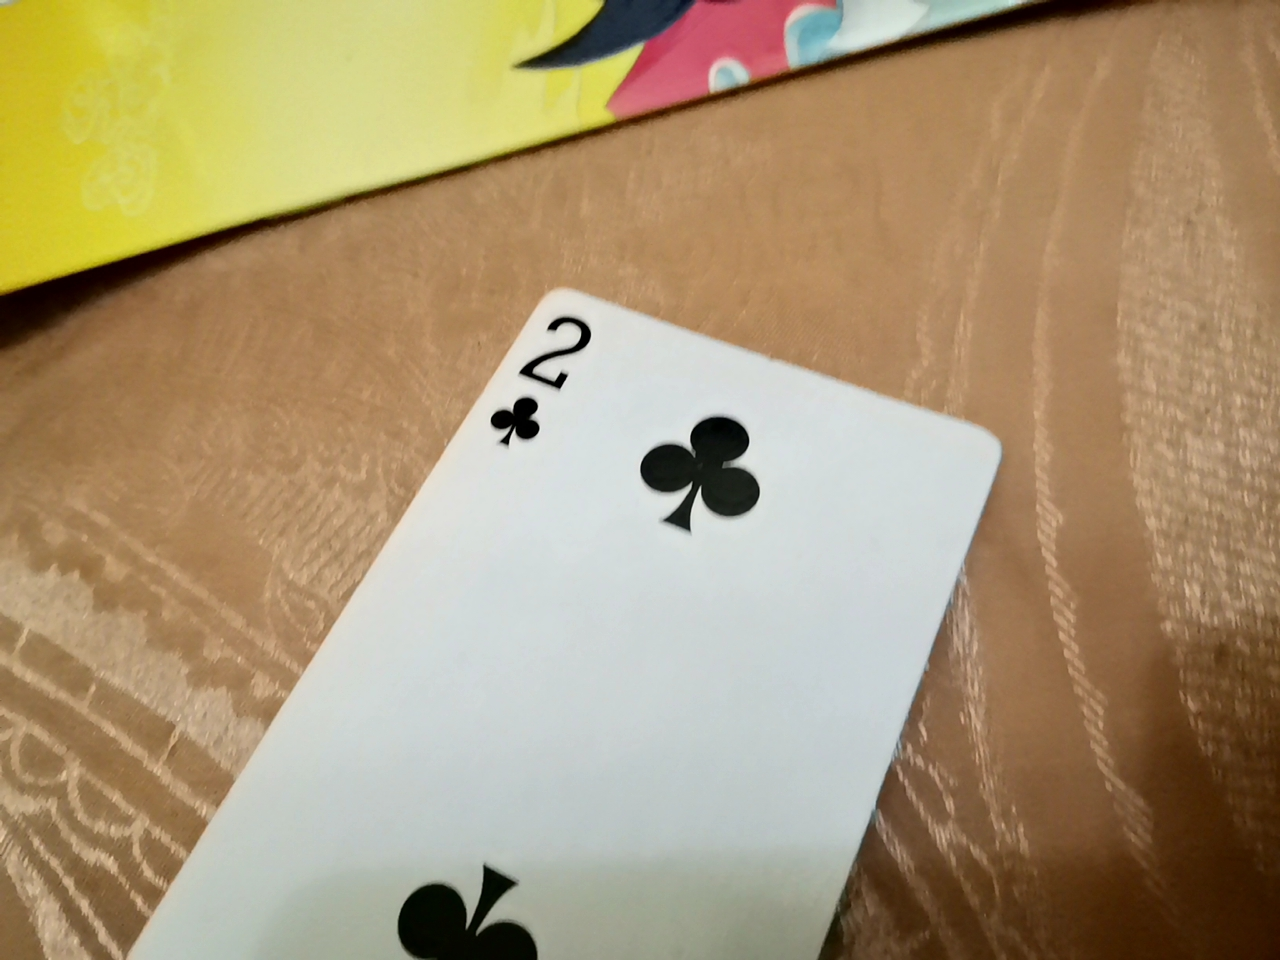mh 2: (98, 256, 1009, 960)
